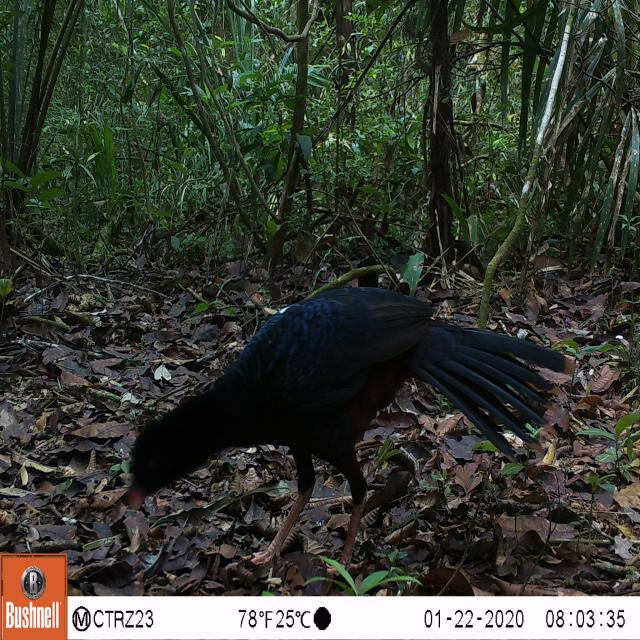Salvins Curassow: (103, 262, 590, 588)
